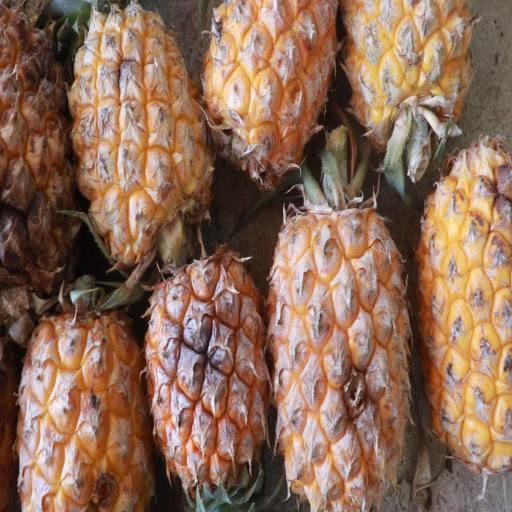Pineapple - v8 v1: (263, 182, 411, 512), (73, 0, 225, 259), (18, 264, 159, 509), (142, 246, 272, 510), (416, 140, 510, 476), (0, 0, 88, 338), (202, 0, 338, 191), (341, 0, 474, 167)
